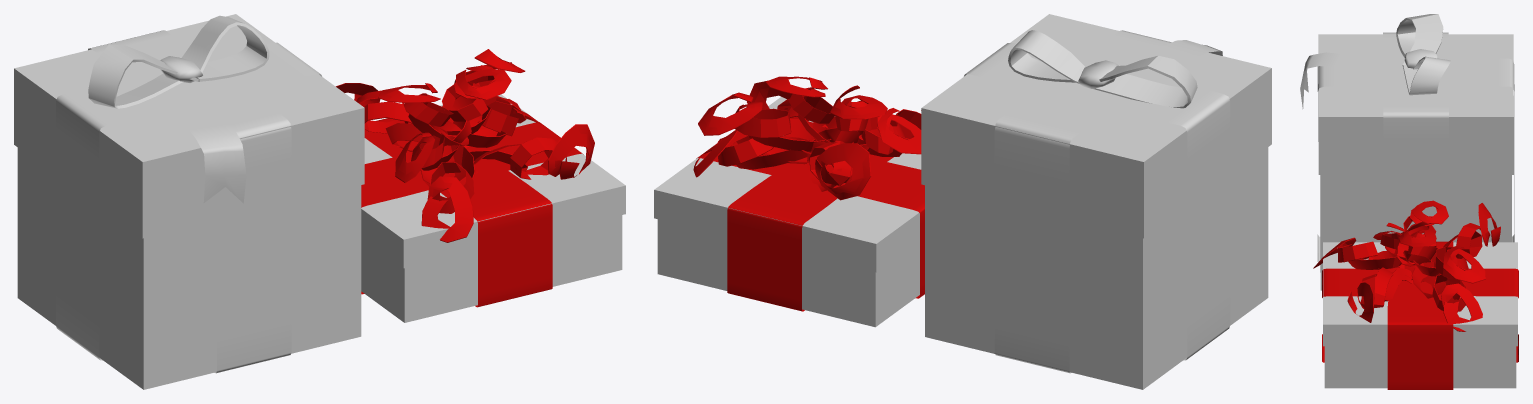
File: gifts.fbx
3 renders of one model, left to right at view 1: azimuth 30°, elevation 25°; view 2: azimuth 150°, elevation 25°; view 3: azimuth 270°, elevation 25°, orthographic. The views are drawn at different scales.
Visible parts, largest first — view 1: polySurface181, polySurface179; view 2: polySurface181, polySurface179; view 3: polySurface181, polySurface179.
Boxes of the visible parts, bbox=[...] form: polySurface181: bbox=[14, 14, 364, 389]; polySurface179: bbox=[336, 49, 625, 322]; polySurface181: bbox=[921, 14, 1271, 389]; polySurface179: bbox=[654, 76, 924, 327]; polySurface181: bbox=[1300, 14, 1514, 290]; polySurface179: bbox=[1313, 200, 1518, 389].
Bounding box in the file's own units: 2.25 × 1.23 × 1.14.
